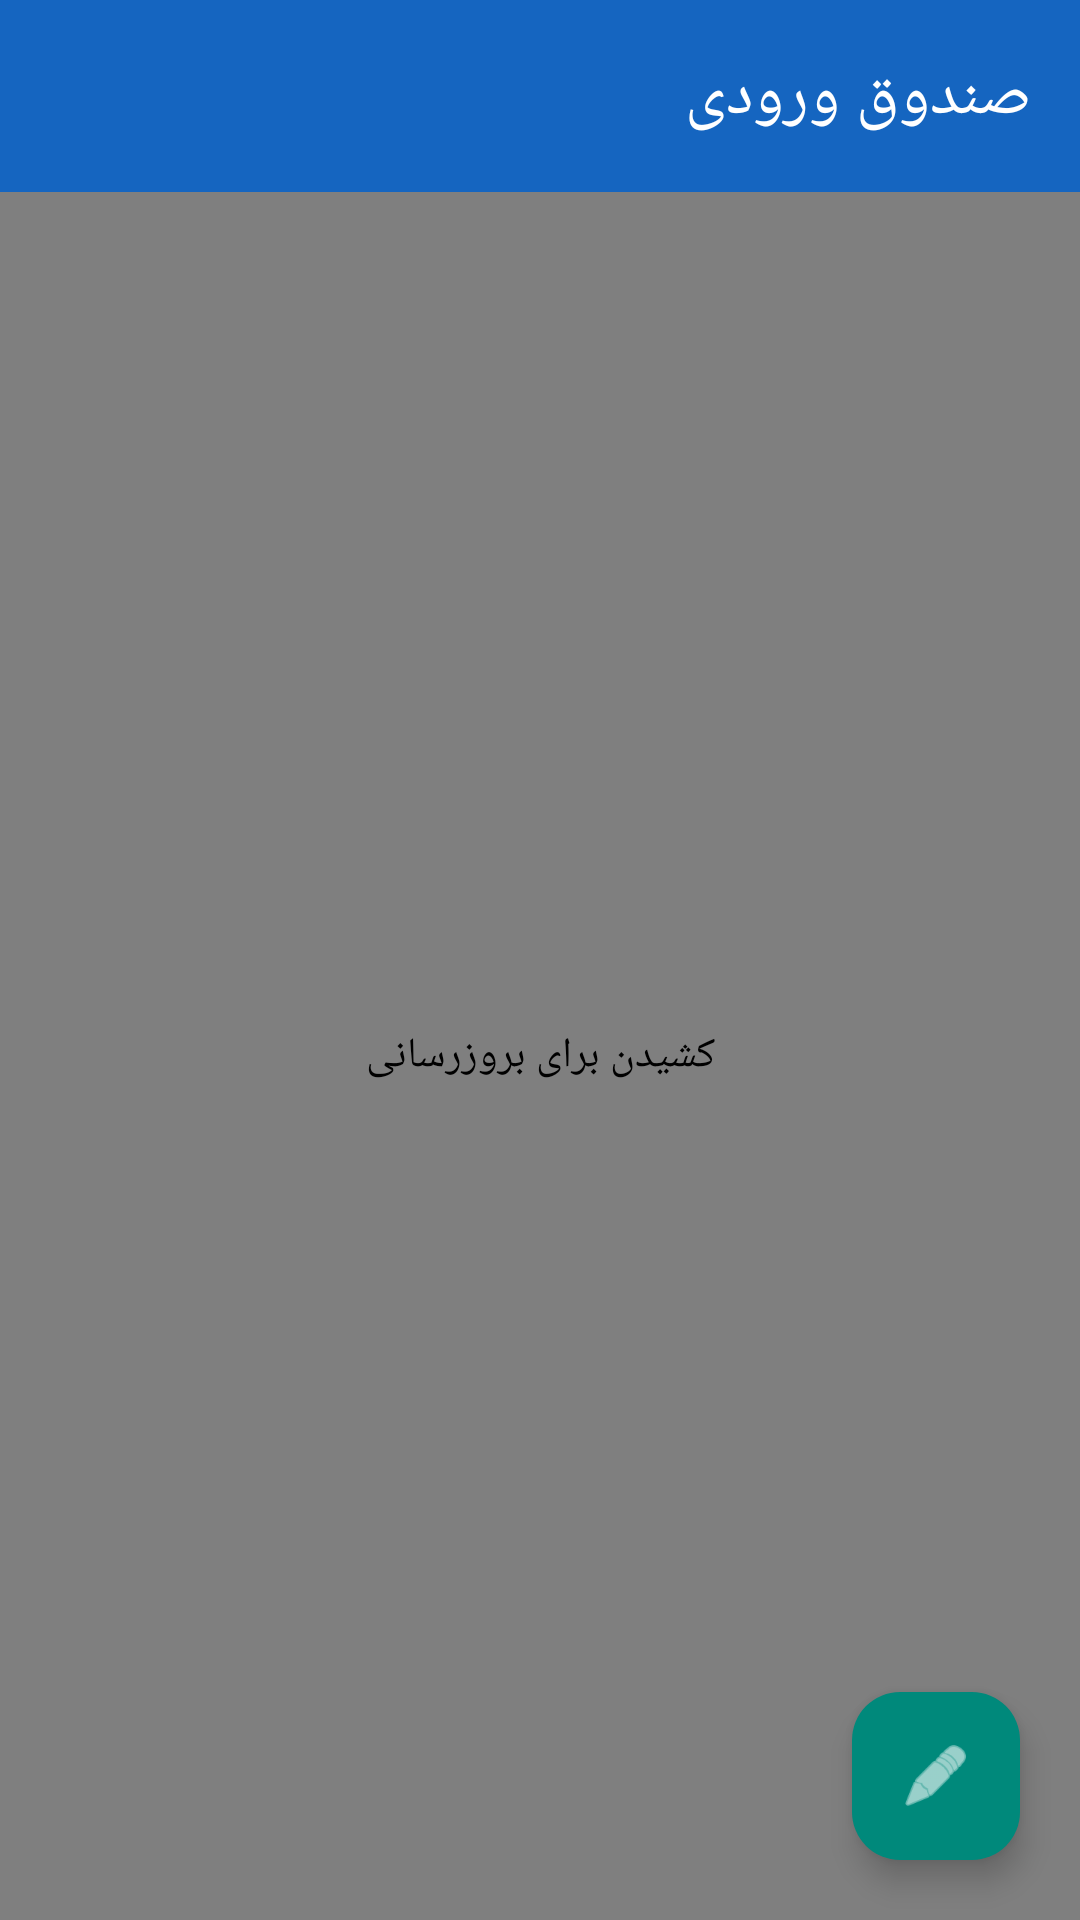

Where icons sit on this 1080w x 1920h app screen, as (x1, y1, x2, y2):
نوشتن نامه: (852, 1692, 1020, 1860)
